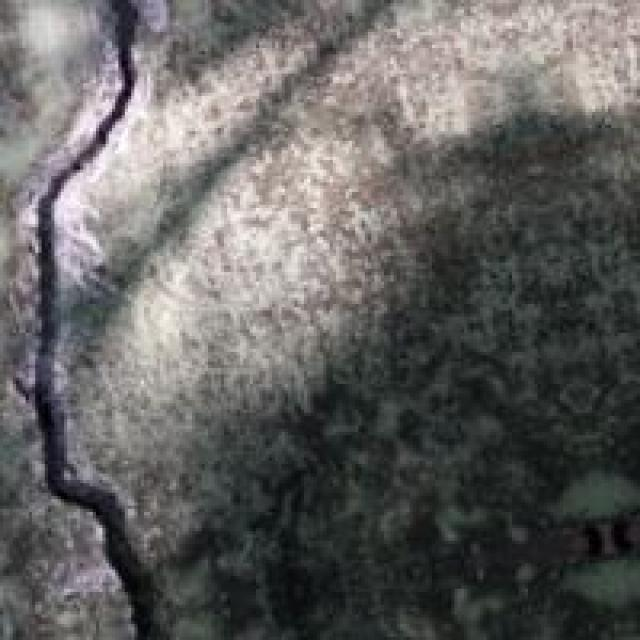Crack: (0, 6, 202, 637)
